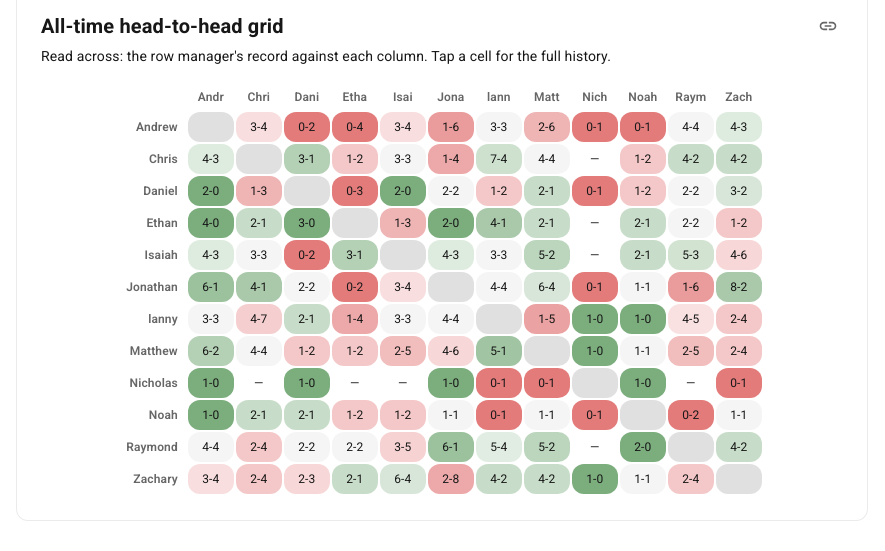
Rivalries › clicking a grid cell loads that rivalry and updates the link
(page scrolled)
Click the button "0-3". click: (355, 191)
box: [332,176,378,206]
(page scrolled)
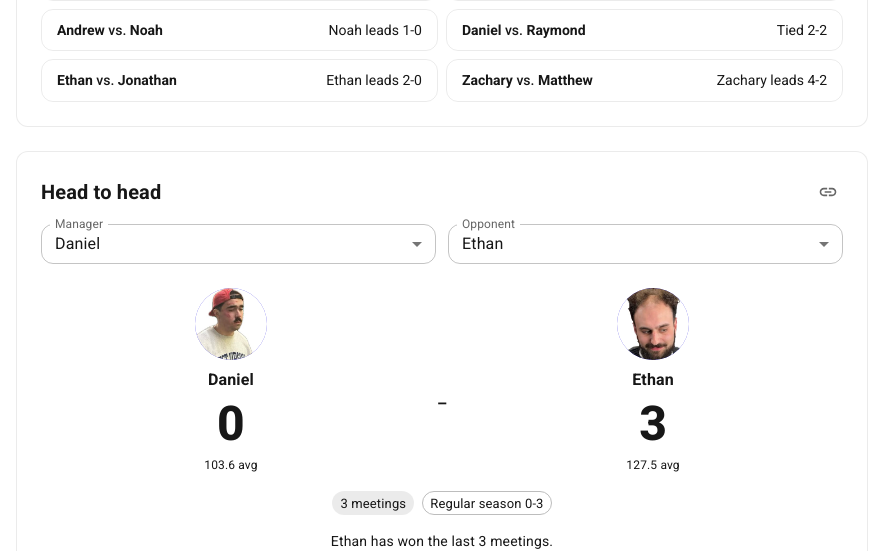
Expected: the link named "Copy link to Daniel vs. Ethan" is shown, [818,182,838,202]
